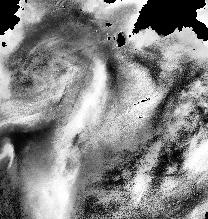CE: (7, 7, 122, 110)
